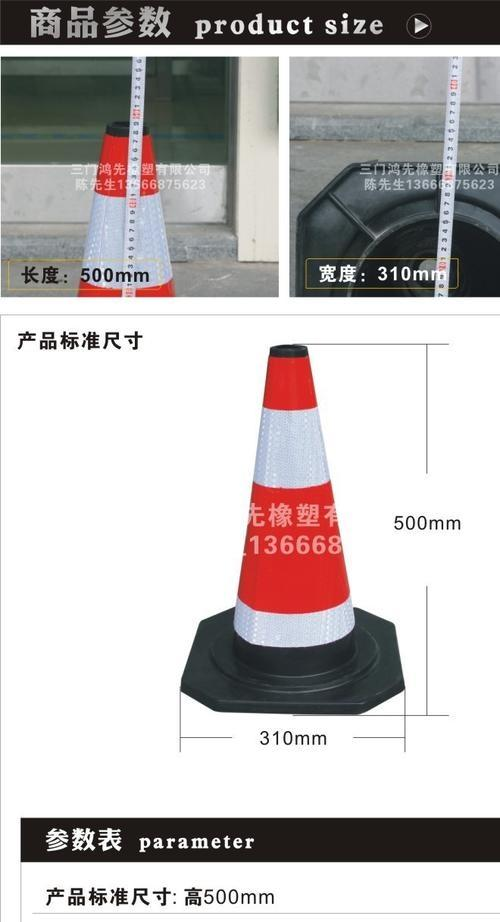cone_barrel: (216, 349, 375, 677), (67, 122, 172, 297)
